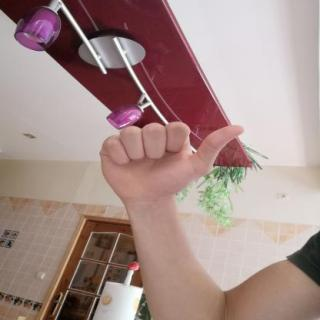DAD: (91, 115, 251, 210)
